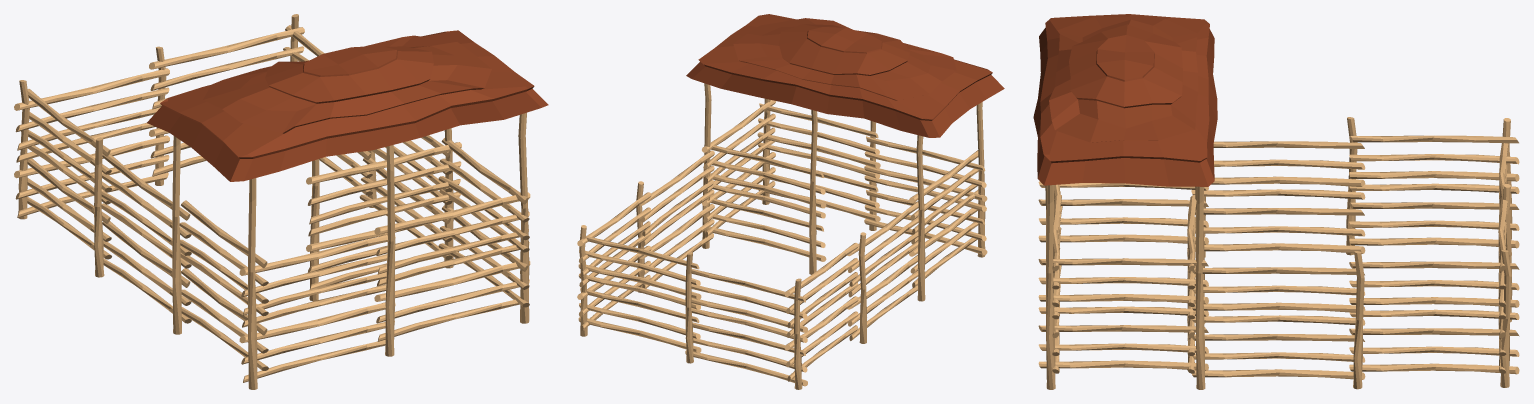
The model's file is cercadoporcos.fbx.
3 renders of one model, left to right at view 1: azimuth 30°, elevation 25°; view 2: azimuth 150°, elevation 25°; view 3: azimuth 270°, elevation 25°, orthographic. The views are drawn at different scales.
Visible parts, largest first — view 1: Plane.002; view 2: Plane.002; view 3: Plane.002.
Part boxes in pixels (box(x1,y1,x2,y2)): Plane.002: box(14, 14, 548, 389); Plane.002: box(577, 14, 1004, 389); Plane.002: box(1033, 14, 1519, 389).
Size of the model in its own units: 348 by 281 by 462.
